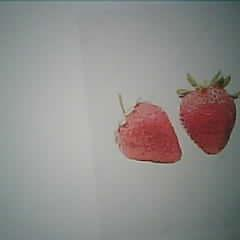straw-ripe: (116, 102, 183, 164), (179, 88, 237, 154)
